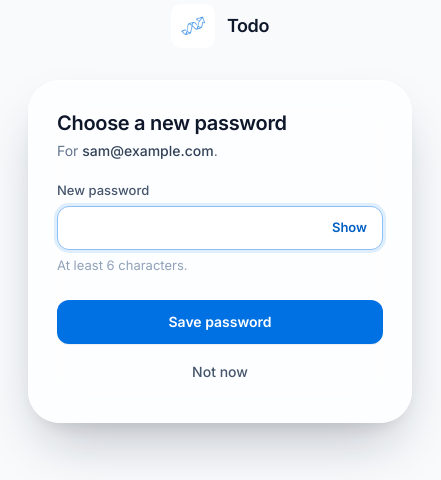
Test case: NewPasswordScreen › saves the new password, then opens the app
Later steps or results of the test are not shown.
Type "a-better-password" into the password field labelled "New password" at [220, 228], box [57, 206, 383, 250]
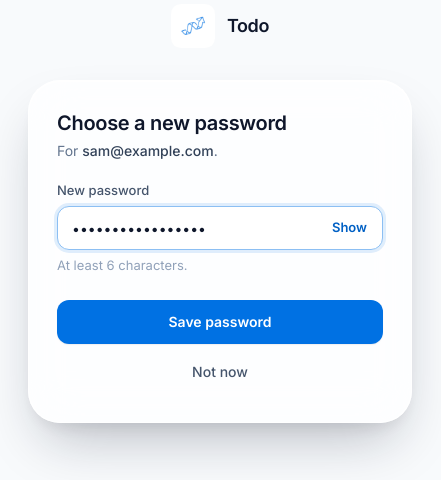
Click the button "Save password" at [220, 322], box [57, 300, 383, 344]
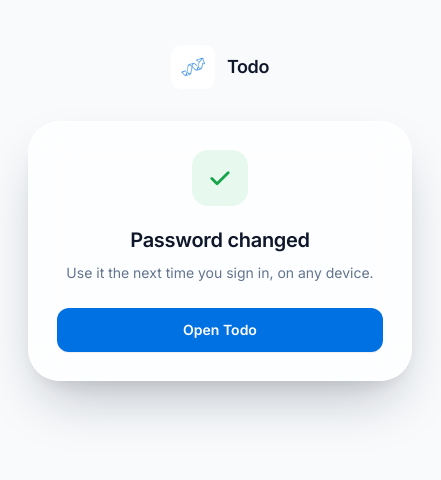
Expected: the heading "Password changed" is shown, [130, 228, 310, 252]
